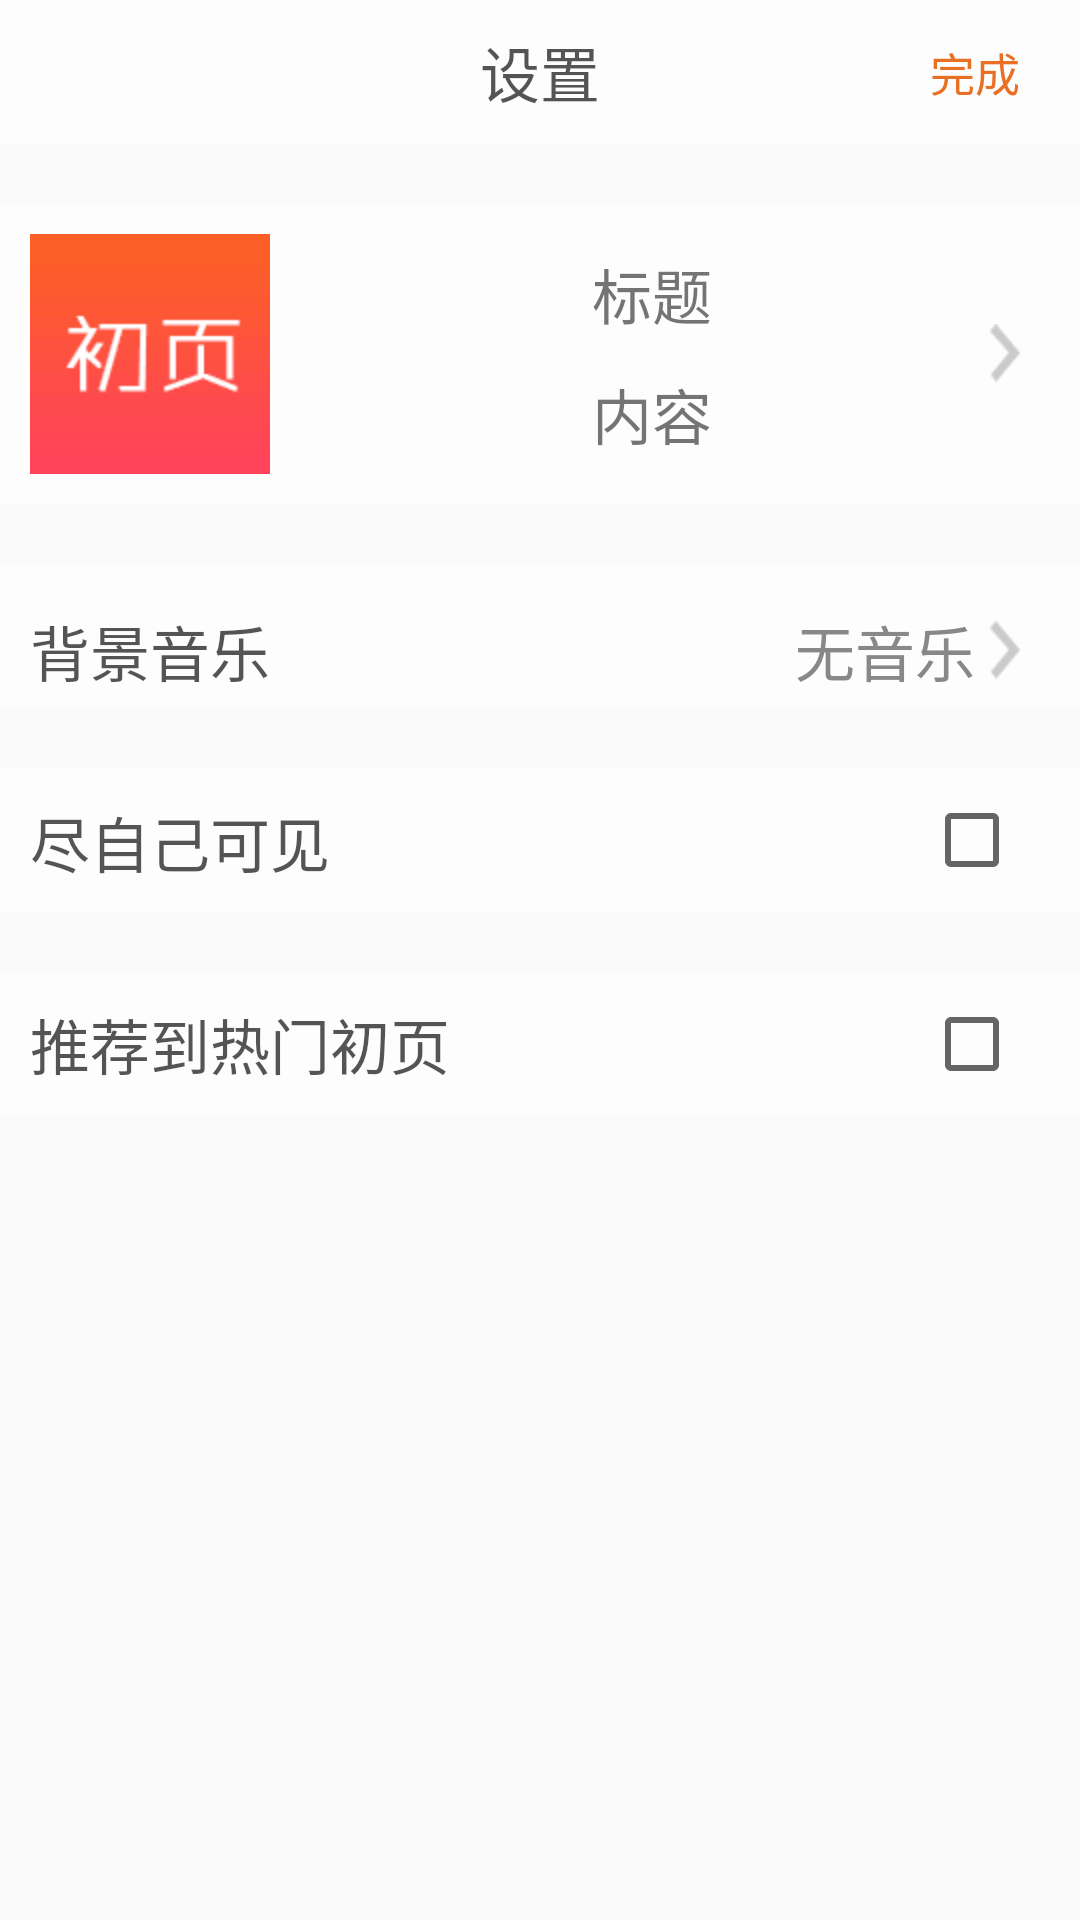

Icon bounding boxes for this 1080 × 1920 phone screenshot, format bbox=(x1, y1, x2, y2):
arrow: bbox=(990, 324, 1020, 381), bbox=(990, 621, 1020, 678)
